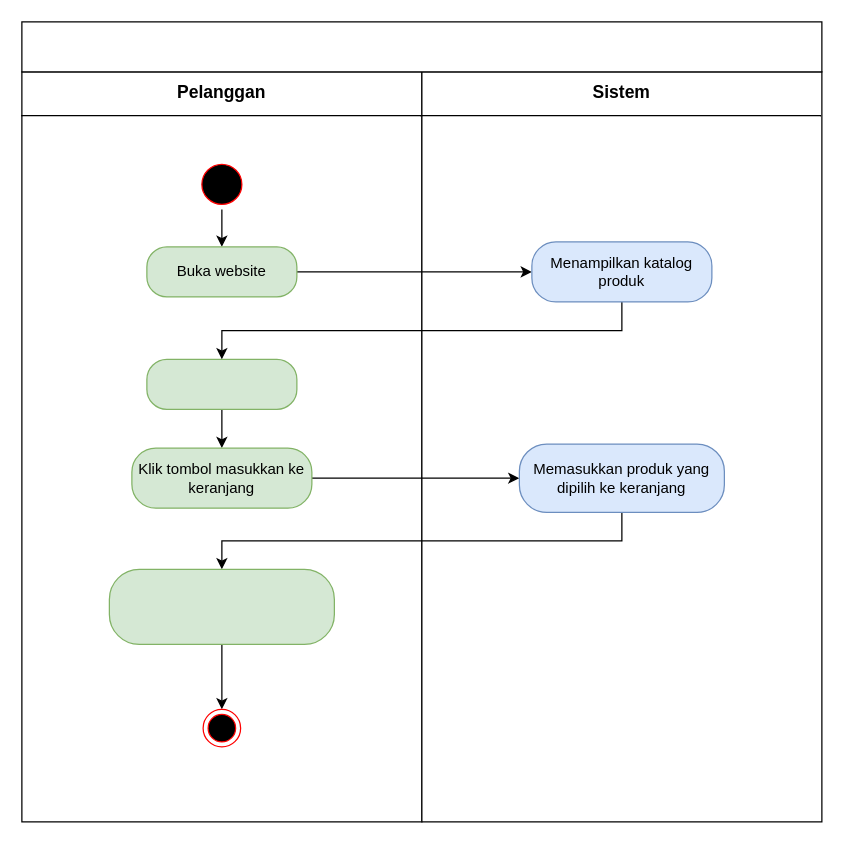
The diagram is 844 pixels wide and 844 high, and some of its shapes have lost their labels. Each missing label, with the centre of its shape:
5. ACTIVITY DIAGRAM MENGELOLA KERANJANG: (x=421, y=46)
Memilih produk: (x=221, y=383)
Mengelola keranjang (menambah, mengurangi, atau mengubah pesanan): (x=221, y=606)
